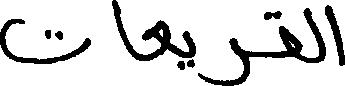X: (0, 14, 89, 68), (212, 33, 249, 85), (279, 6, 301, 65), (144, 15, 169, 65), (112, 0, 132, 61), (305, 3, 324, 67), (327, 0, 344, 70), (185, 26, 195, 72)
